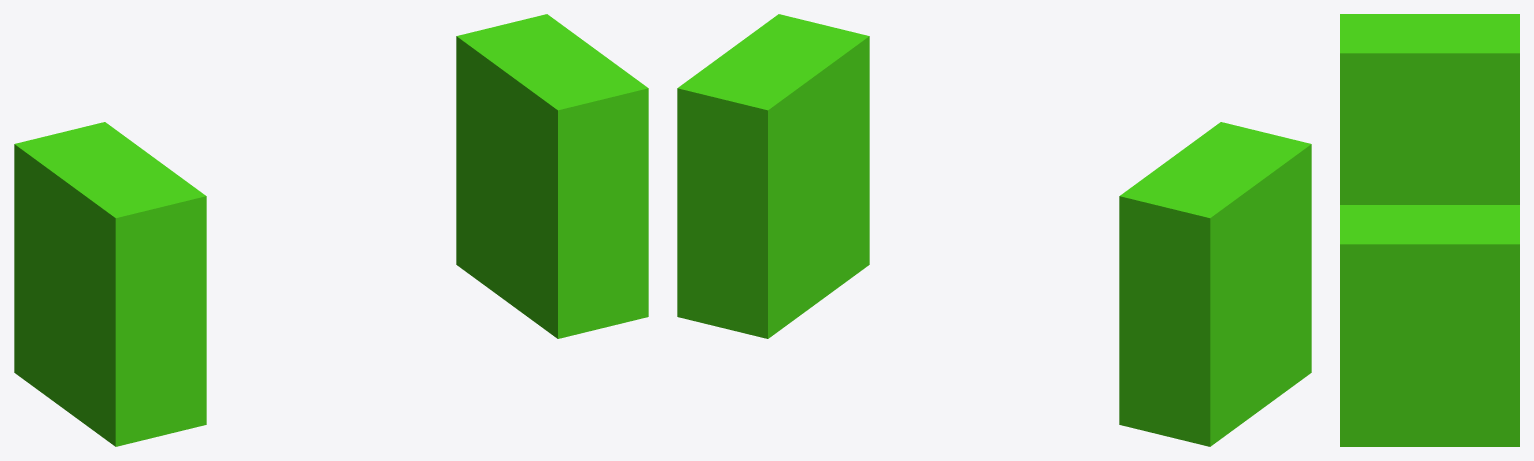
Rendered from edificio2.fbx.
3 views of the same model, side by side, from view 1: azimuth 30°, elevation 25°; view 2: azimuth 150°, elevation 25°; view 3: azimuth 270°, elevation 25° (orthographic). The views are drawn at different scales.
Visible parts, largest first — view 1: Cube.009; view 2: Cube.009; view 3: Cube.009.
Boxes of the visible parts, x1,y1,x2,y2 form: Cube.009: [14, 14, 648, 446]; Cube.009: [677, 14, 1311, 446]; Cube.009: [1340, 14, 1519, 446].
Bounding box in the file's own units: 15163 × 6219 × 5000.
